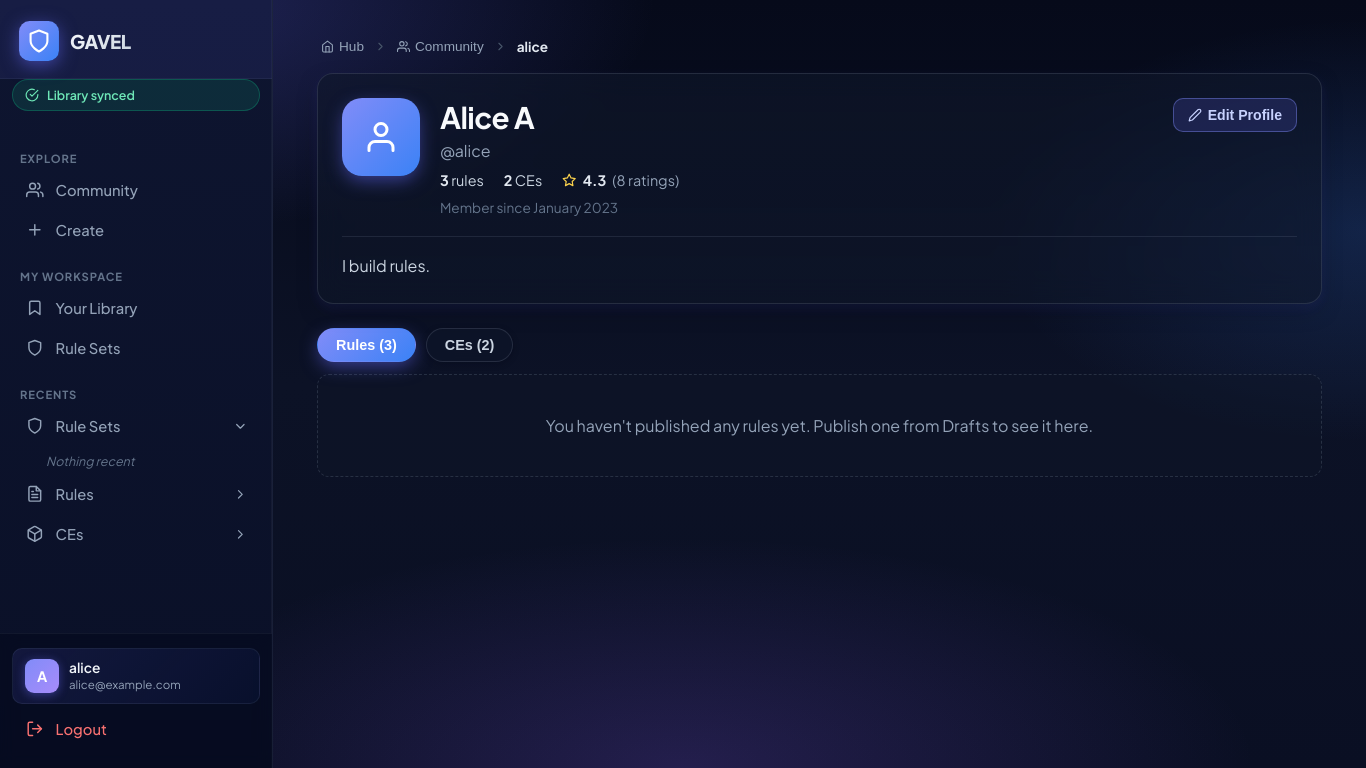
Test: Profile — own profile editing › enters edit mode and saves the profile
Click the button "Edit Profile" at (1235, 115), box [1173,98,1297,132]
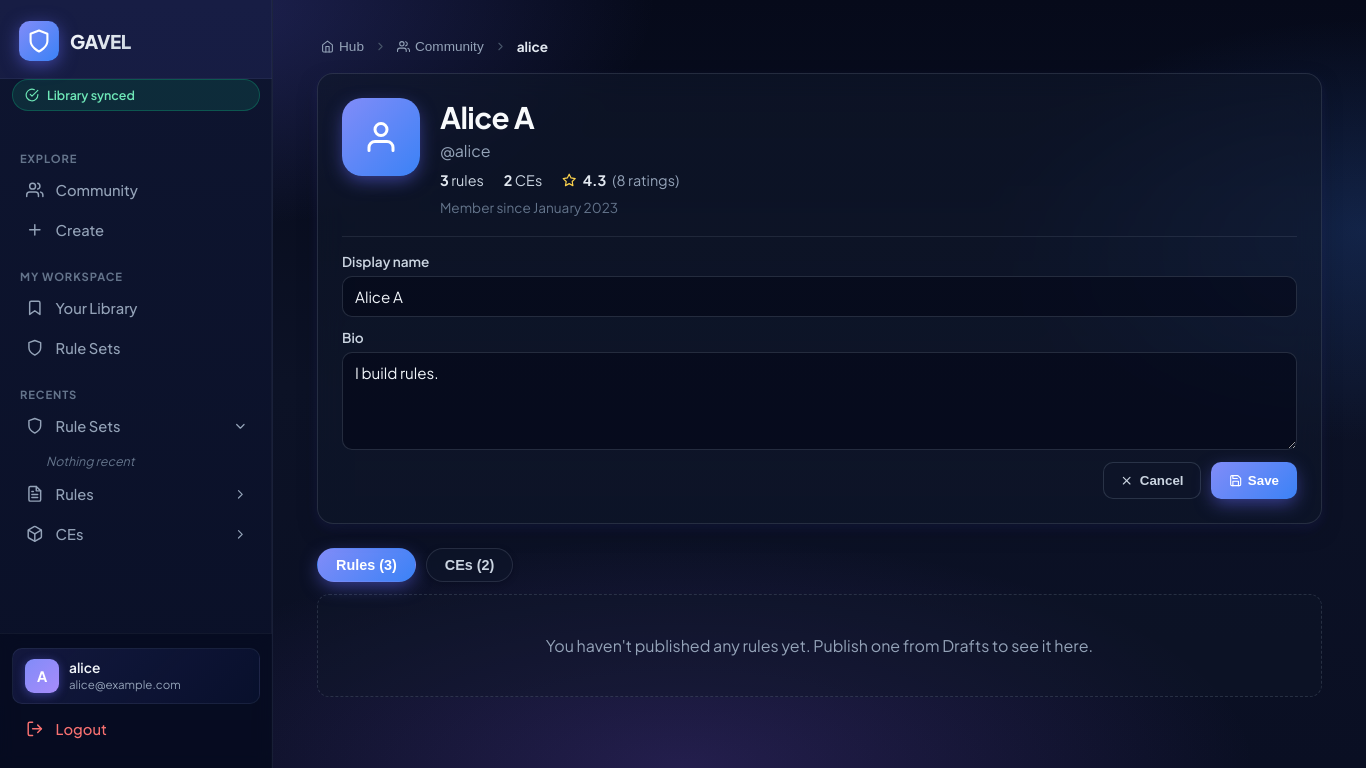
Replace the text in the field showing "Alice A" with "New Name" at (820, 296), box [342,276,1297,317]
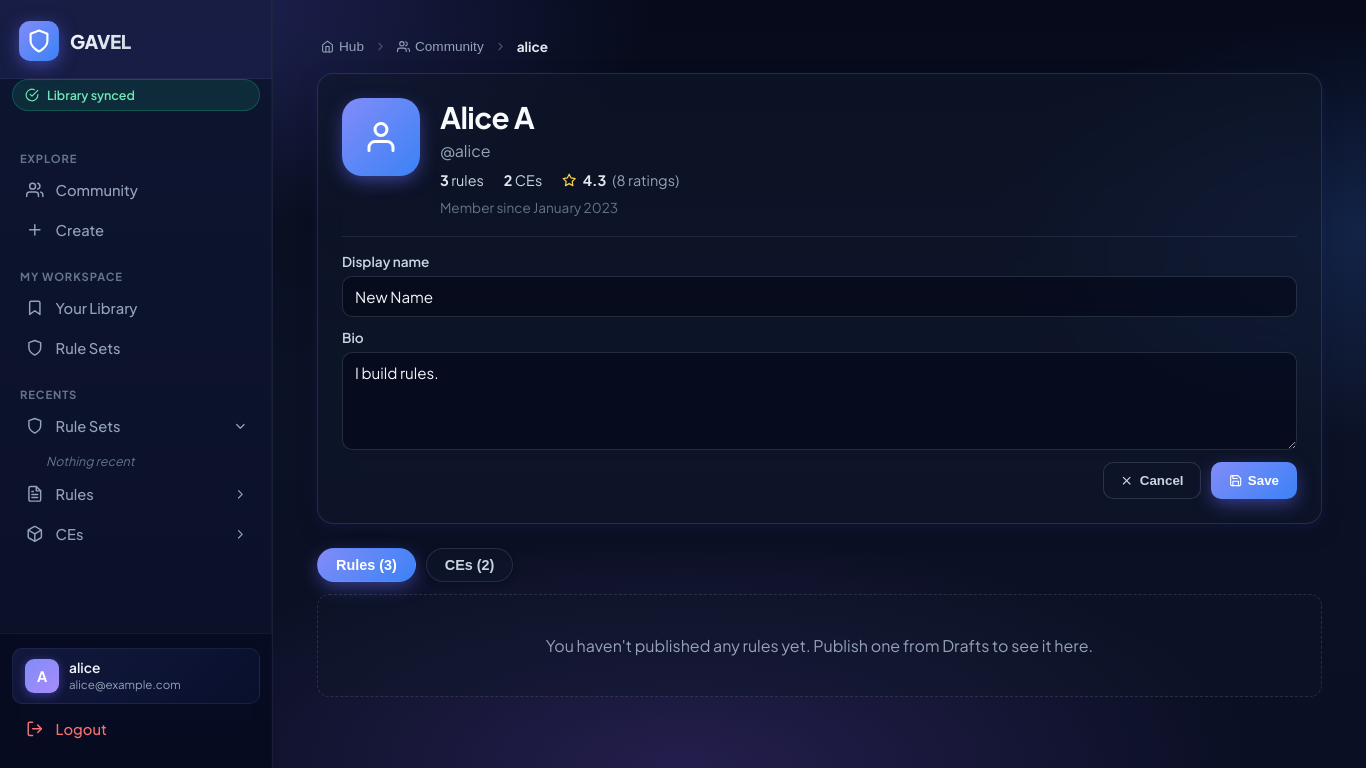
Click the button "Save" at (1254, 480), box [1210,462,1297,499]
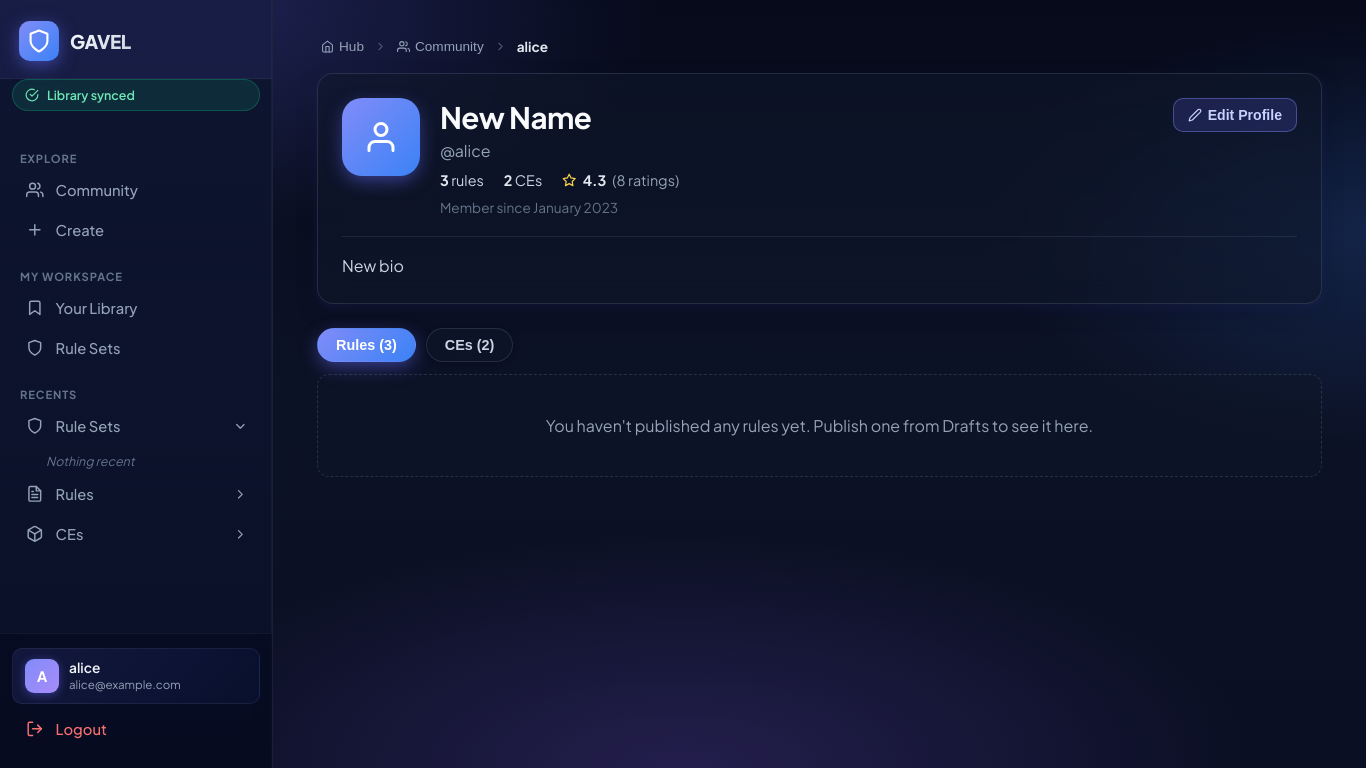
Expected: the heading "New Name" is shown, [440,98,591,136]
Expected: the text "New bio" is shown, [342,255,404,276]
